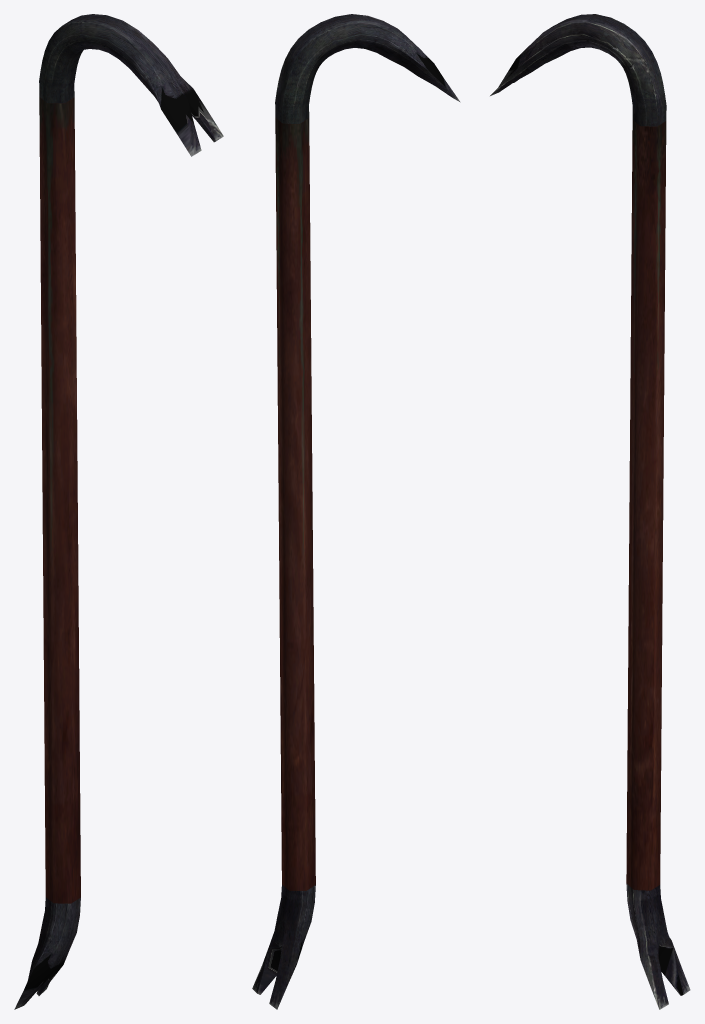
File: crowbar_model.glb
3 renders of one model, left to right at view 1: azimuth 90°, elevation 25°; view 2: azimuth 150°, elevation 25°; view 3: azimuth 270°, elevation 25°, orthographic. The views are drawn at different scales.
Parts seen in each view (by area): view 1: Object_2, Object_3; view 2: Object_2, Object_3; view 3: Object_2, Object_3.
Boxes of the visible parts, x1=… form: Object_2: x1=39, y1=97, x2=80, y2=903; Object_3: x1=14, y1=14, x2=223, y2=1009; Object_2: x1=275, y1=117, x2=315, y2=890; Object_3: x1=252, y1=14, x2=460, y2=1009; Object_2: x1=626, y1=120, x2=666, y2=890; Object_3: x1=490, y1=14, x2=690, y2=1009.
Size of the model in its own units: 5.16 by 34.22 by 6.49.
Materials: 2 (2 with a texture image).
